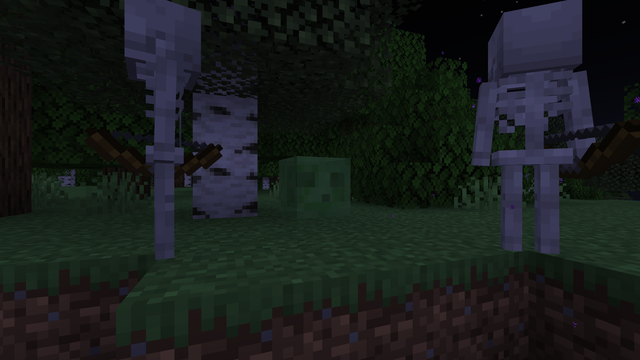slimes: (279, 153, 350, 218)
squelettes: (472, 2, 593, 264), (104, 2, 204, 268)
